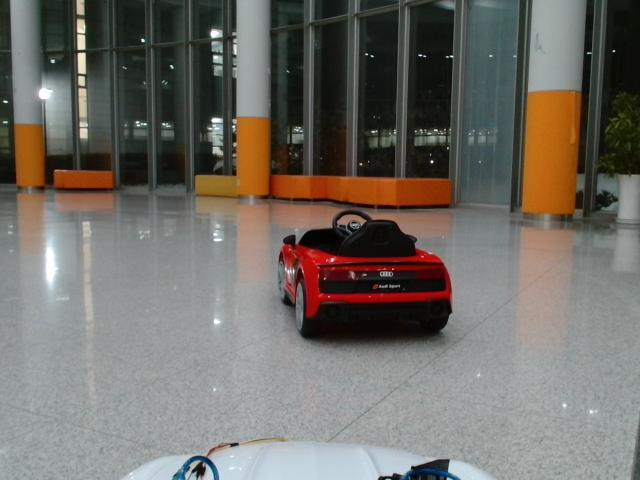car: (276, 210, 453, 334)
